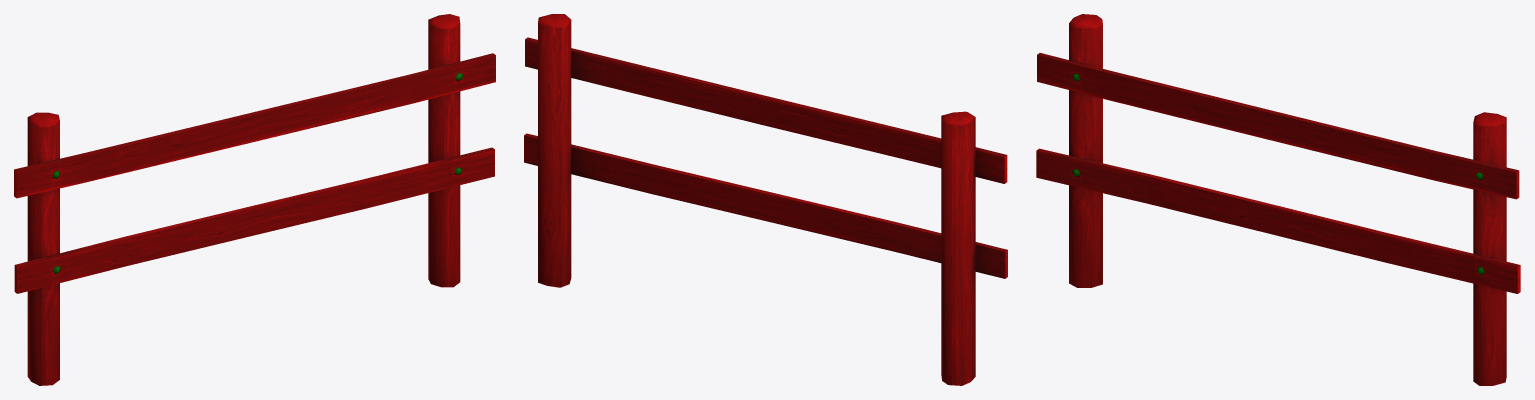
Rendered from Fence01.fbx.
The picture shows the model from 3 angles, left to right: view 1: azimuth 30°, elevation 25°; view 2: azimuth 150°, elevation 25°; view 3: azimuth 330°, elevation 25°; orthographic projection.
Parts seen in each view (by area): view 1: Fence01_LOD0; view 2: Fence01_LOD0; view 3: Fence01_LOD0.
Boxes of the visible parts, x1,y1,x2,y2 form: Fence01_LOD0: (14, 14, 495, 385); Fence01_LOD0: (524, 14, 1007, 385); Fence01_LOD0: (1036, 14, 1520, 385).
Size of what is drawn, in the model's own units: 1.93 by 1.01 by 0.1491.
